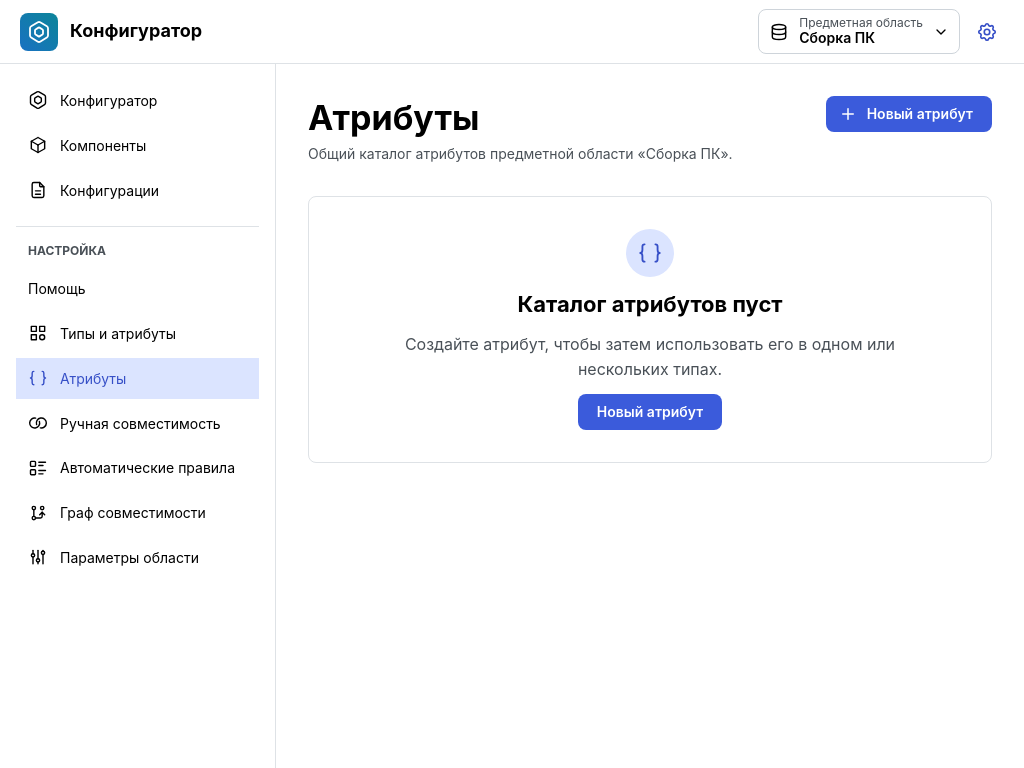
Test: attribute catalog page › creates and deletes catalog attributes with destructive confirmation
Check: the heading "Каталог атрибутов пуст" is shown, box [517, 290, 783, 320]
Click the 1st button "Новый атрибут": coordinates (909, 114) [826, 96, 992, 132]
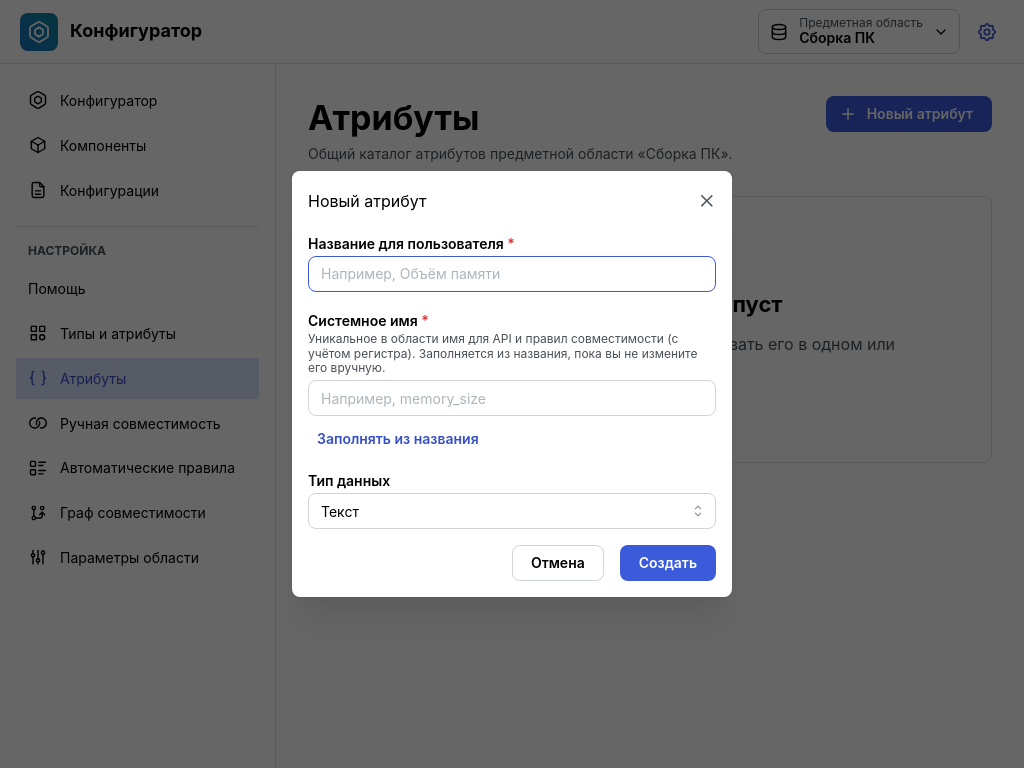
In the field labelled "Системное имя *": coordinates (512, 398) [308, 380, 716, 416], type "socket"
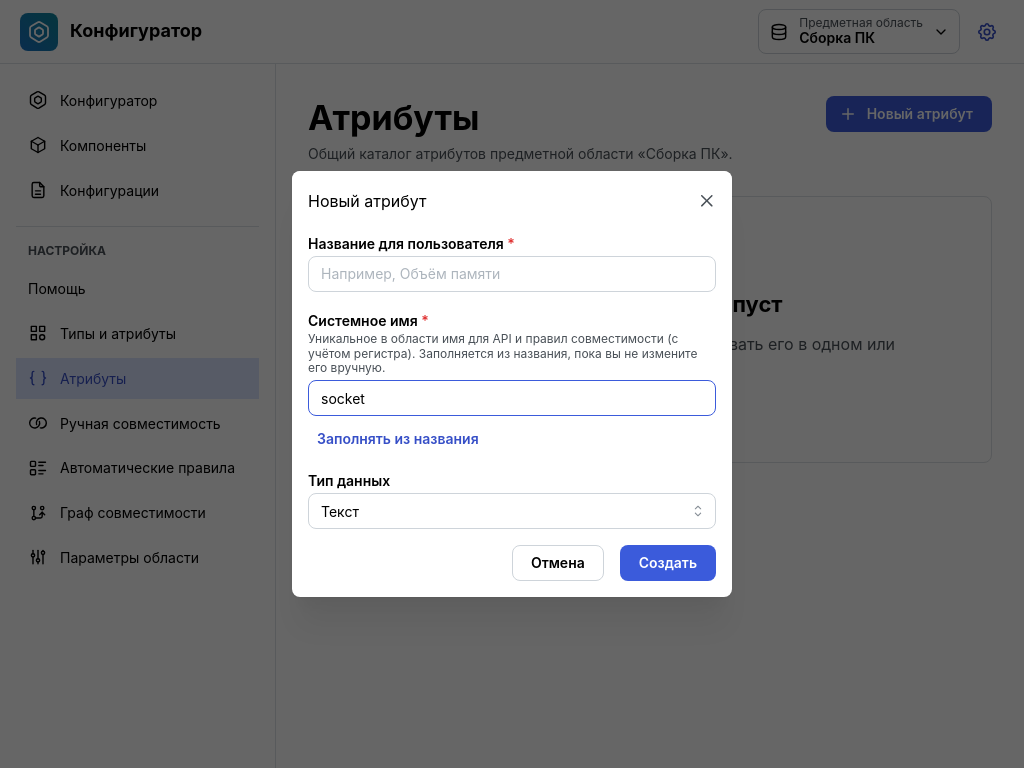
In the field labelled "Название для пользователя": coordinates (512, 274) [308, 256, 716, 292], type "Сокет"
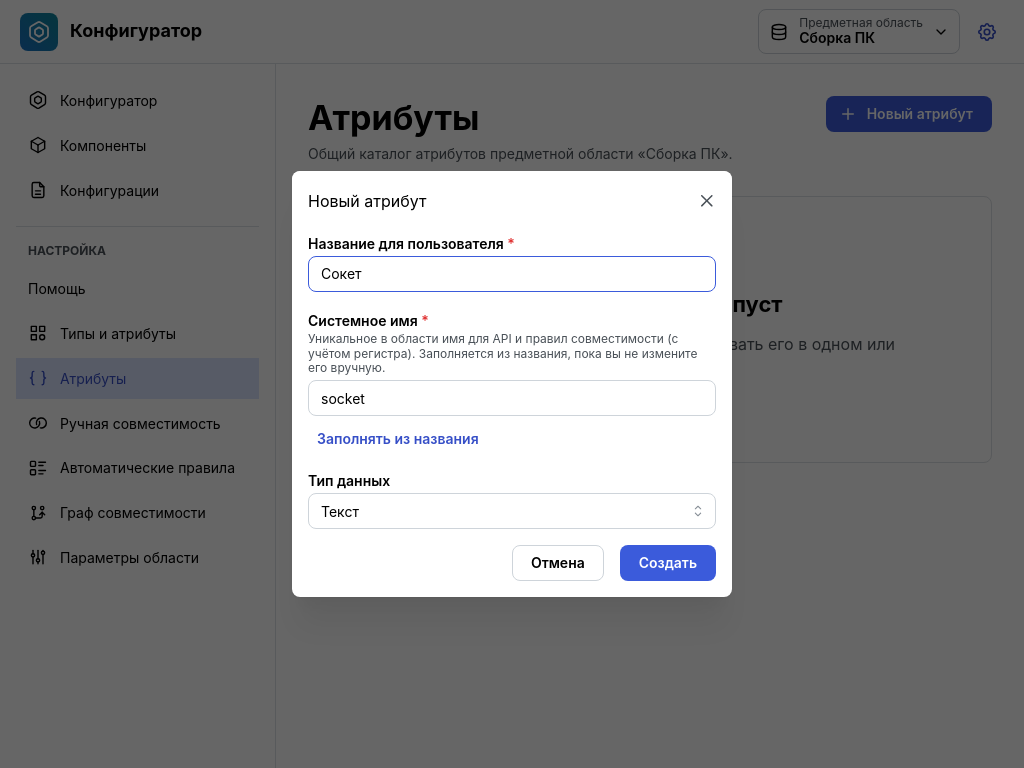
Click the button "Создать": coordinates (668, 563) [620, 545, 716, 581]
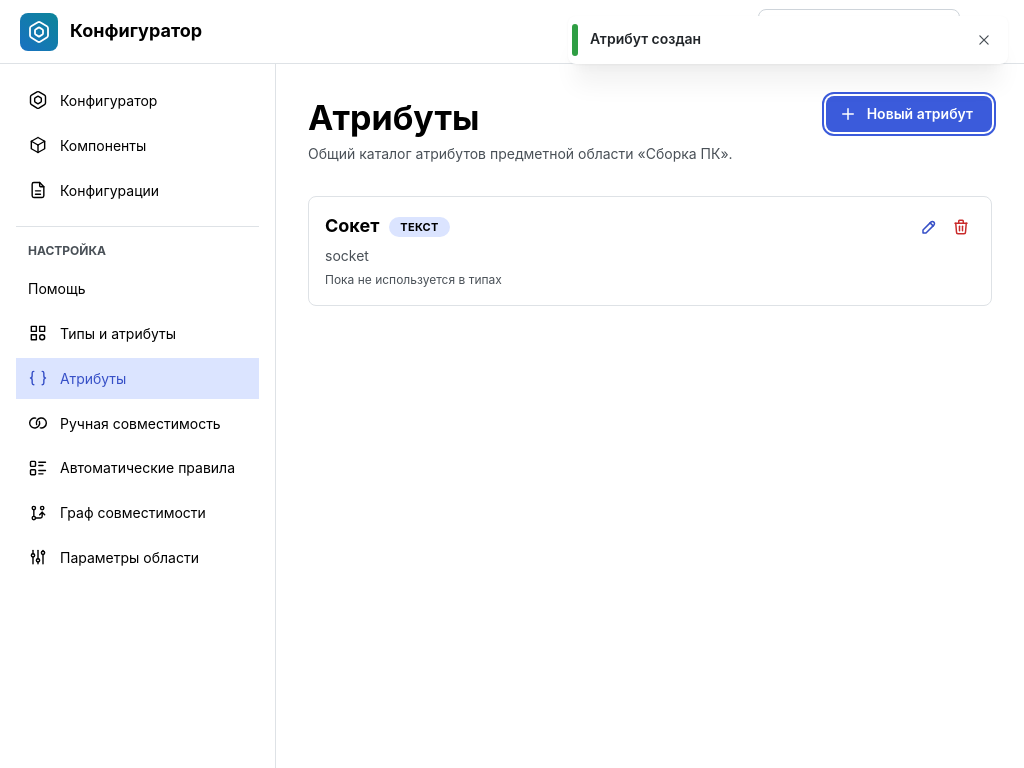
Check: the heading "Сокет" is shown, box [325, 214, 379, 240]
Click the button named "Удалить атрибут Сокет": coordinates (961, 228) [947, 214, 975, 242]
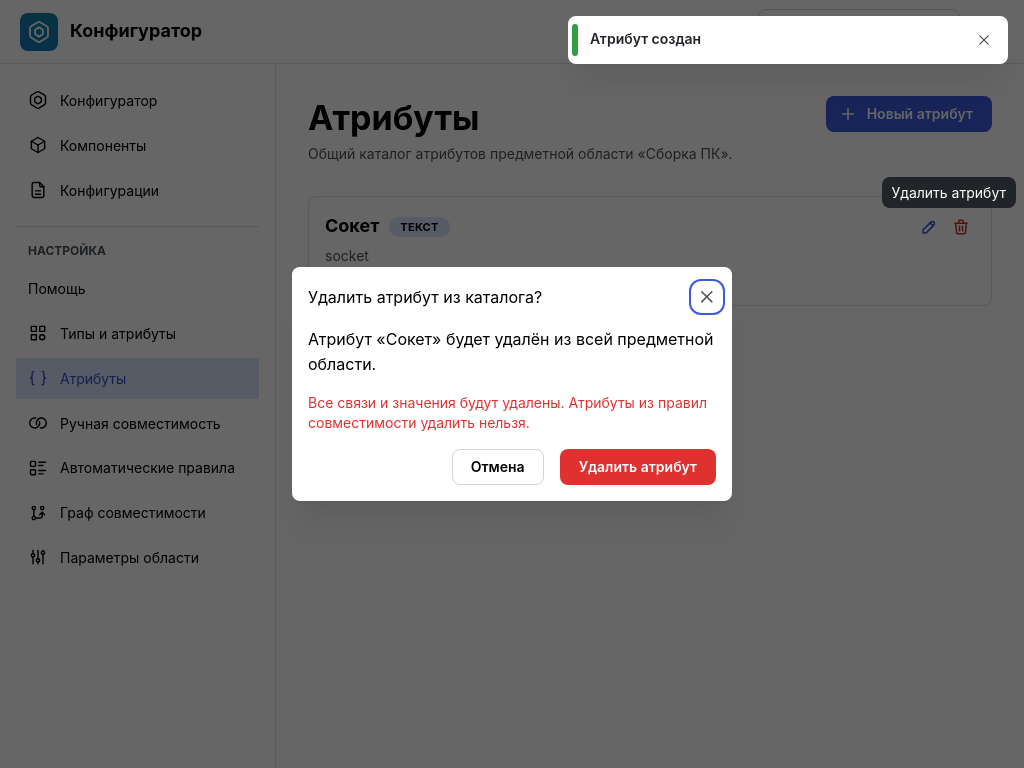
Check: the text "Все связи и значения" is shown, box [308, 394, 707, 431]
Click the button "Удалить атрибут": coordinates (638, 467) [560, 449, 716, 485]
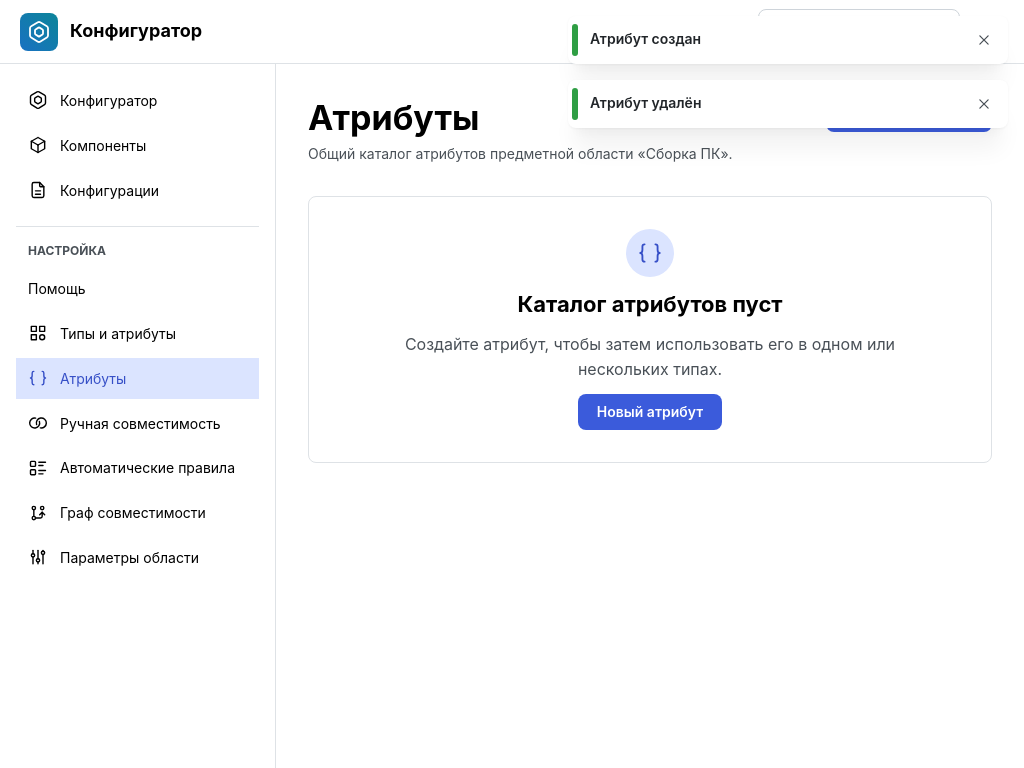
Check: the heading "Каталог атрибутов пуст" is shown, box [517, 290, 783, 320]
